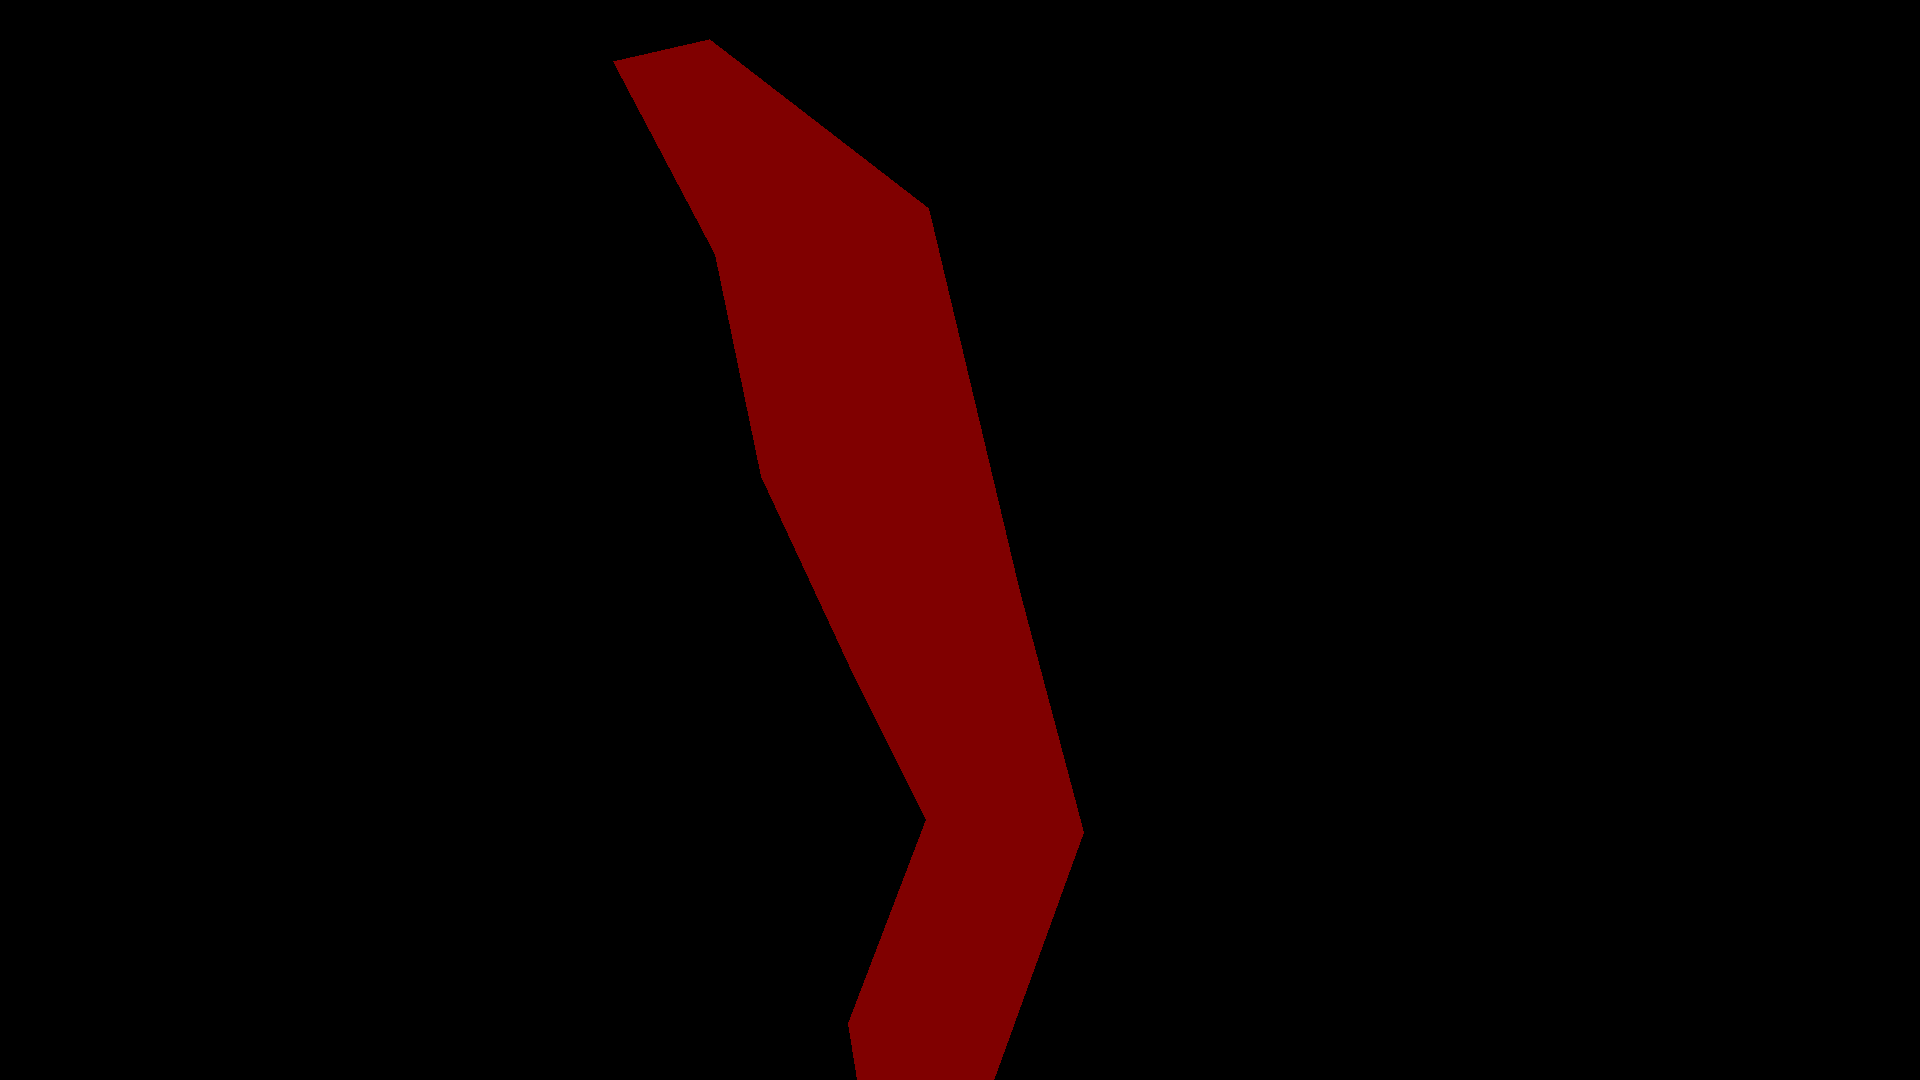fire: (613, 40, 1083, 1080)
